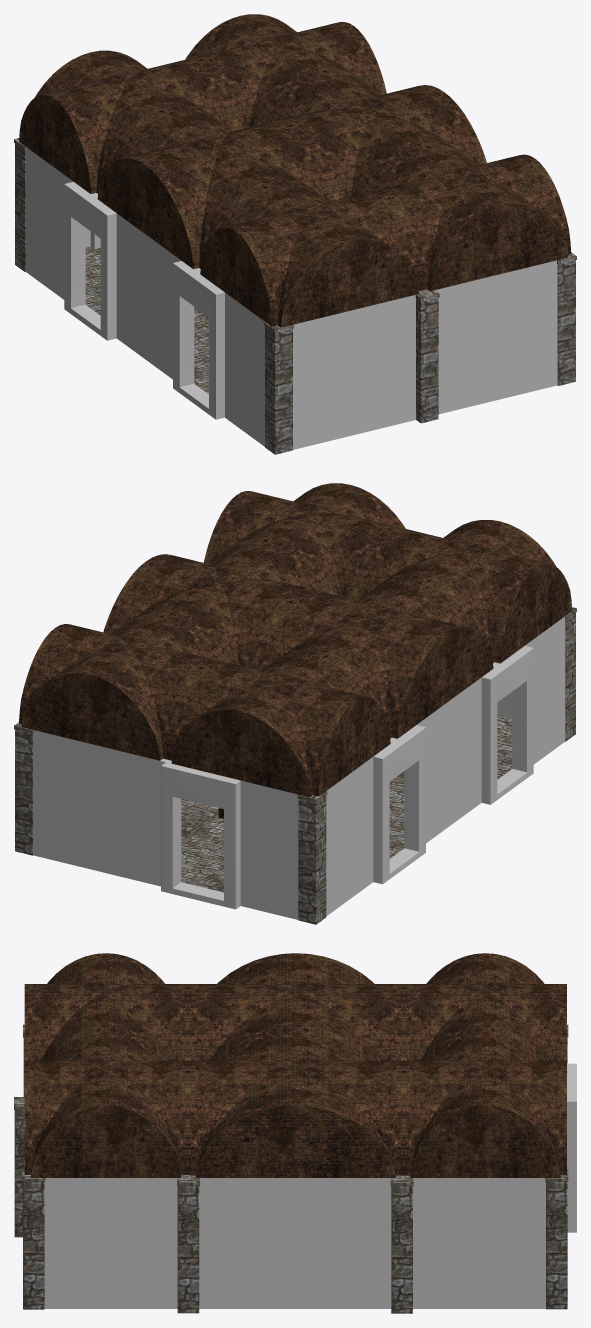
Rendered from SM_Room_Laboratory.fbx.
3 views of the same model, one above another, from view 1: azimuth 30°, elevation 25°; view 2: azimuth 150°, elevation 25°; view 3: azimuth 270°, elevation 25° (orthographic). The views are drawn at different scales.
Visible parts, largest first — view 1: SM_Celling_Laboratory, SM_Room_Laboratory, SM_Brick_Doorframe.001, SM_Brick_Doorframe, SM_Brick_Collum.006, SM_Brick_Collum.001, SM_Room_Laboratory.001, SM_Brick_Collum.007, SM_Brick_Collum.005; view 2: SM_Celling_Laboratory, SM_Room_Laboratory, SM_Brick_Doorframe.002, SM_Brick_Doorframe.001, SM_Brick_Doorframe, SM_Brick_Collum.005, SM_Brick_Collum.004, SM_Room_Laboratory.001, SM_Brick_Collum.006; view 3: SM_Celling_Laboratory, SM_Room_Laboratory, SM_Room_Laboratory.001, SM_Brick_Collum.002, SM_Brick_Collum.003, SM_Brick_Collum.007, SM_Brick_Collum.004, SM_Brick_Doorframe.002, SM_Brick_Collum.001.
Boxes of the visible parts, x1,y1,x2,y2 form: SM_Celling_Laboratory: (19,14,571,327); SM_Room_Laboratory: (26,147,557,449); SM_Brick_Doorframe.001: (64,181,116,340); SM_Brick_Doorframe: (173,261,224,419); SM_Brick_Collum.006: (264,321,293,454); SM_Brick_Collum.001: (415,289,439,423); SM_Room_Laboratory.001: (26,150,557,331); SM_Brick_Collum.007: (557,252,576,385); SM_Brick_Collum.005: (14,138,26,271); SM_Celling_Laboratory: (19,483,572,797); SM_Room_Laboratory: (33,616,565,919); SM_Brick_Doorframe.002: (161,760,240,909); SM_Brick_Doorframe.001: (373,725,425,884); SM_Brick_Doorframe: (481,646,533,804); SM_Brick_Collum.005: (297,791,327,924); SM_Brick_Collum.004: (14,722,33,855); SM_Room_Laboratory.001: (33,677,481,800); SM_Brick_Collum.006: (565,607,576,741); SM_Celling_Laboratory: (24,953,566,1177); SM_Room_Laboratory: (44,1178,545,1308); SM_Room_Laboratory.001: (44,1178,545,1185); SM_Brick_Collum.002: (177,1175,199,1313); SM_Brick_Collum.003: (390,1175,413,1313); SM_Brick_Collum.007: (22,1169,45,1309); SM_Brick_Collum.004: (545,1169,568,1309); SM_Brick_Doorframe.002: (567,1063,576,1232); SM_Brick_Collum.001: (14,1097,24,1237).
Size of the model in its own units: 10.65 by 6.2 by 15.58.
